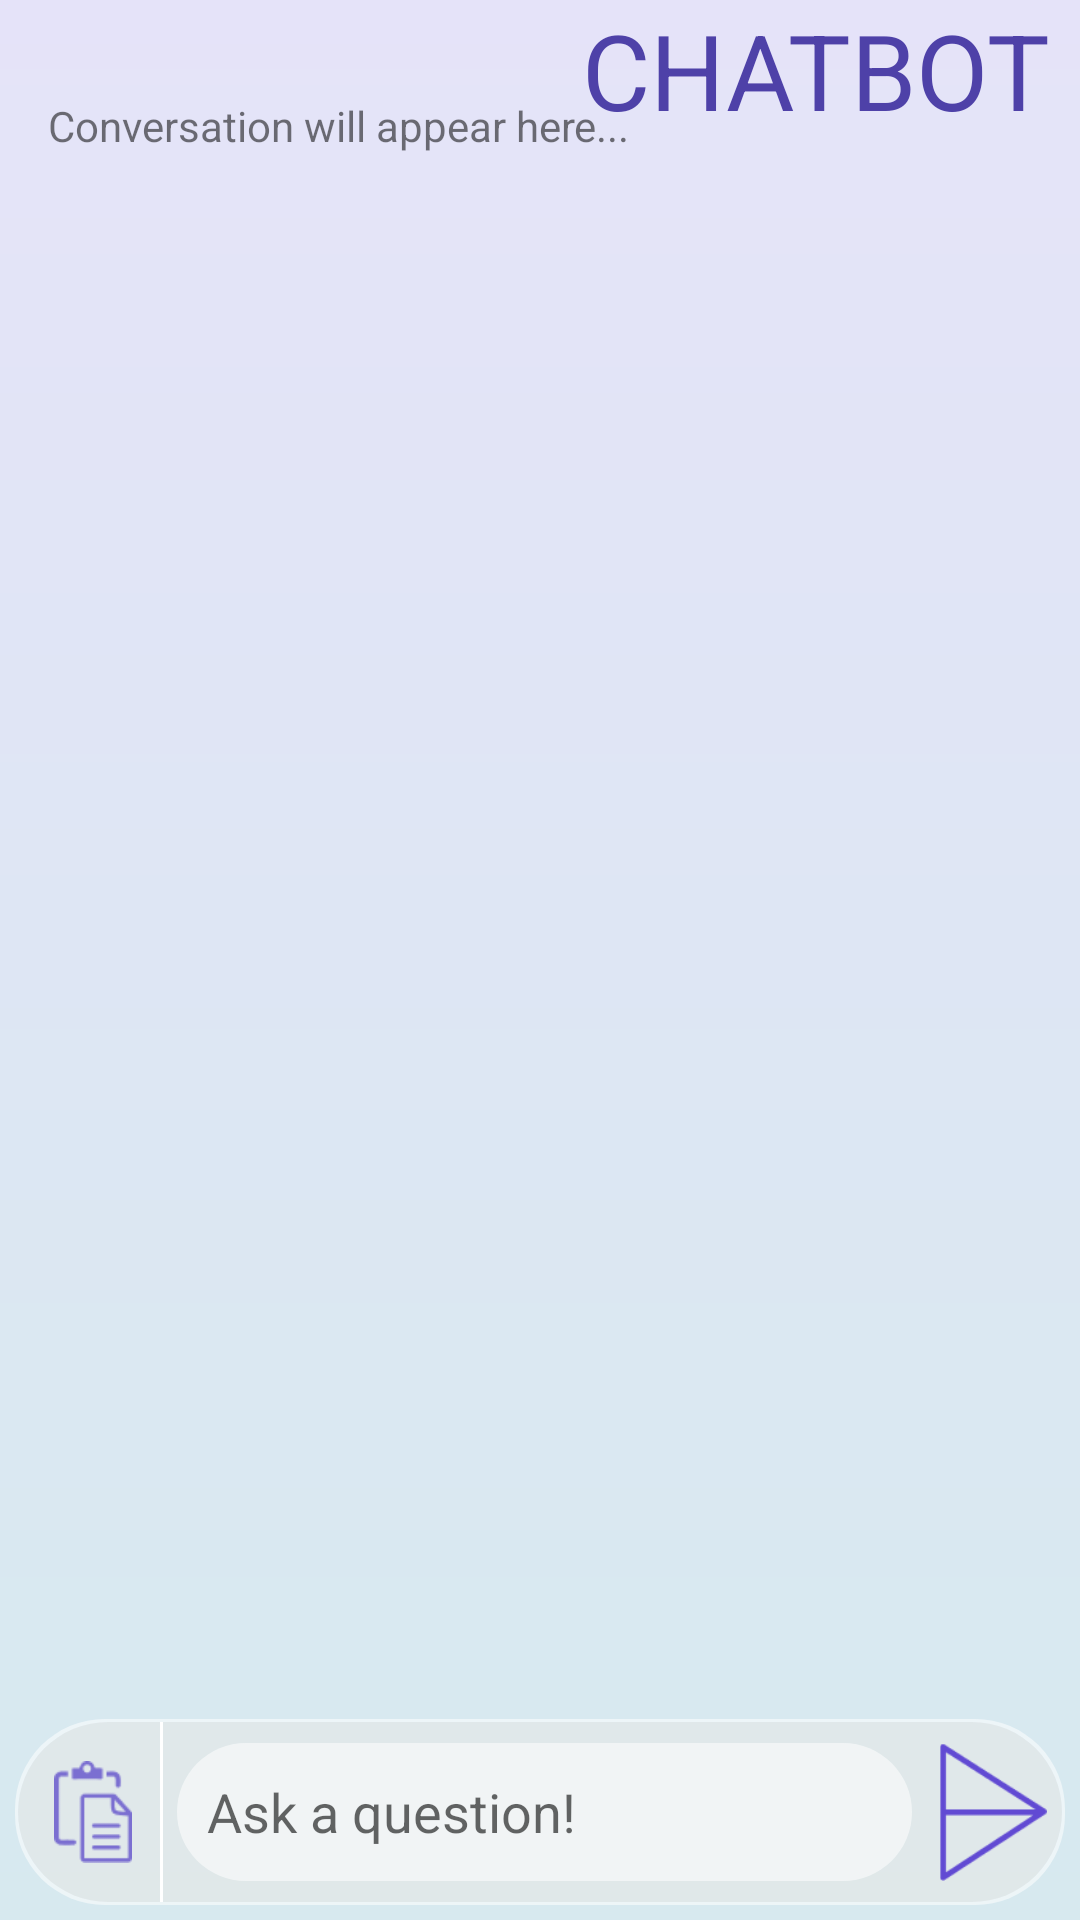

Where to tap for icons on this 1080x1920 app screen, as [x,y]:
paste: [108,1812]
send: [993,1812]
